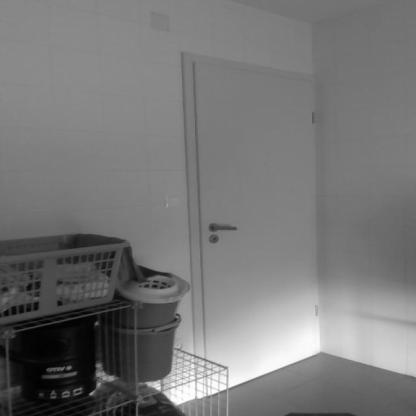door: (174, 52, 334, 404)
